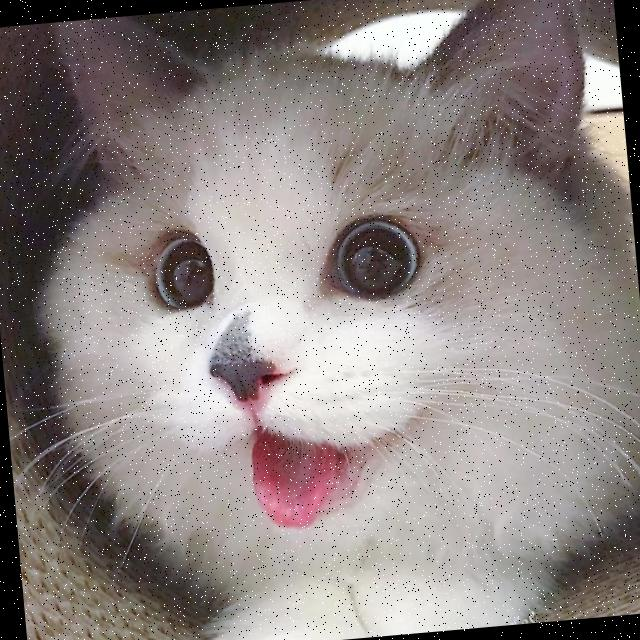Happy: (63, 142, 494, 578)
